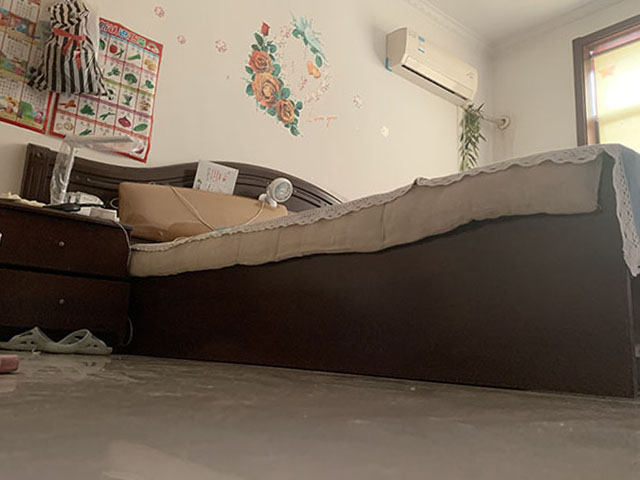bed: (18, 139, 640, 399)
cabinet: (1, 198, 134, 334)
slippers: (28, 331, 114, 355), (1, 328, 75, 354)
